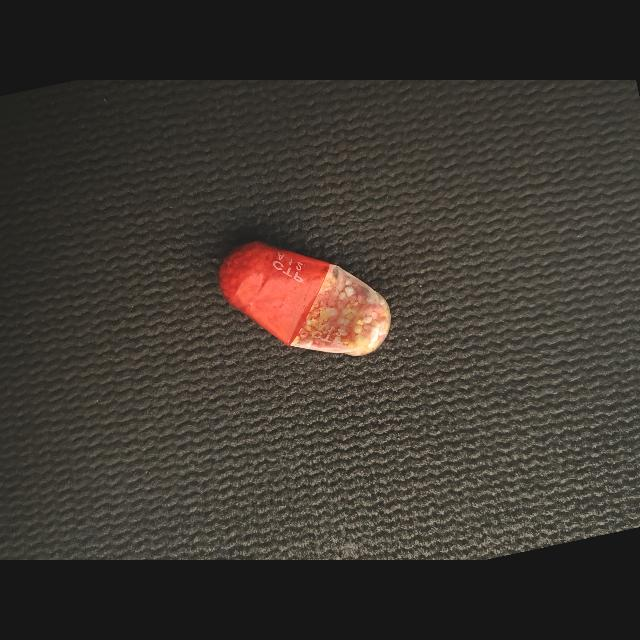Defective Capsule: (218, 242, 391, 356)
